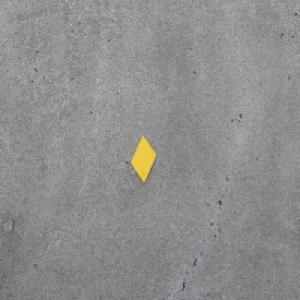PlasticPart: (130, 135, 156, 184)
